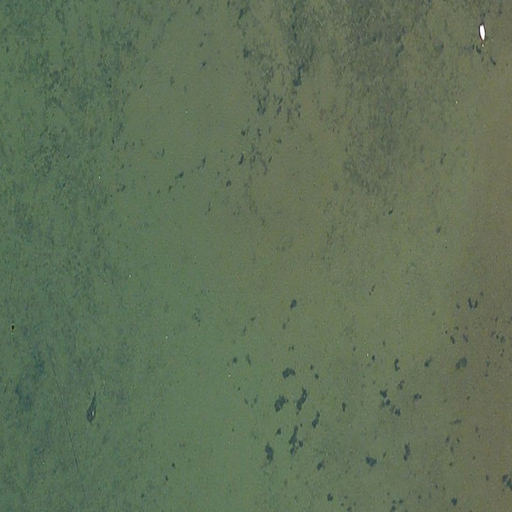ship: (477, 23, 488, 42)
